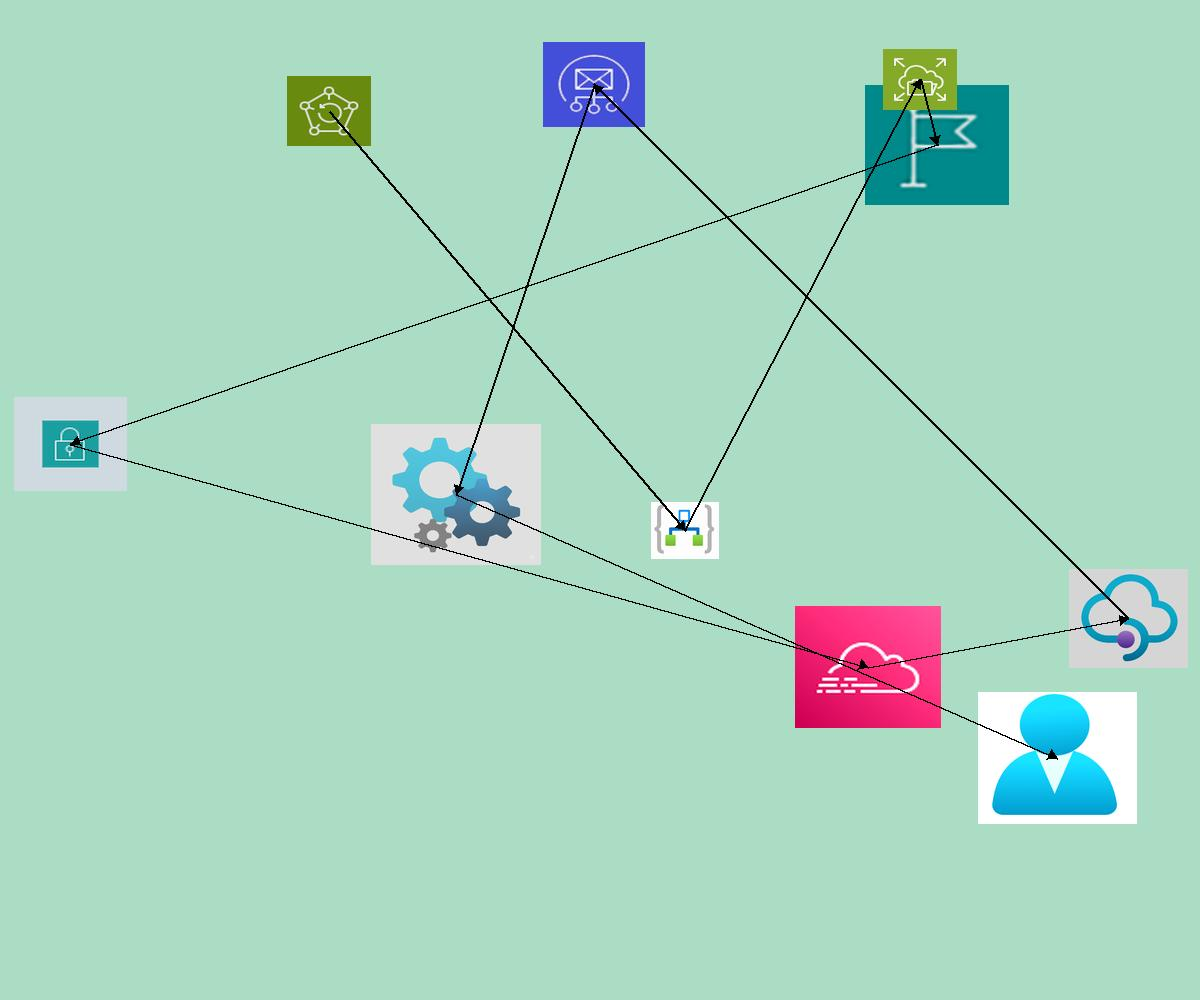AWS-Backup: (287, 76, 371, 146)
AWS-CloudTrail: (795, 606, 941, 728)
AWS-EFS: (883, 49, 957, 110)
AWS-Private-subnet: (14, 397, 127, 491)
AWS-Region: (865, 85, 1009, 205)
AWS-Simple-Email-Service: (543, 42, 645, 127)
Azure_api: (371, 424, 541, 565)
Azure_api_gateway: (1069, 569, 1188, 668)
Azure_integration-204-Logic-Apps: (651, 502, 719, 559)
Azure_users: (978, 692, 1137, 824)
